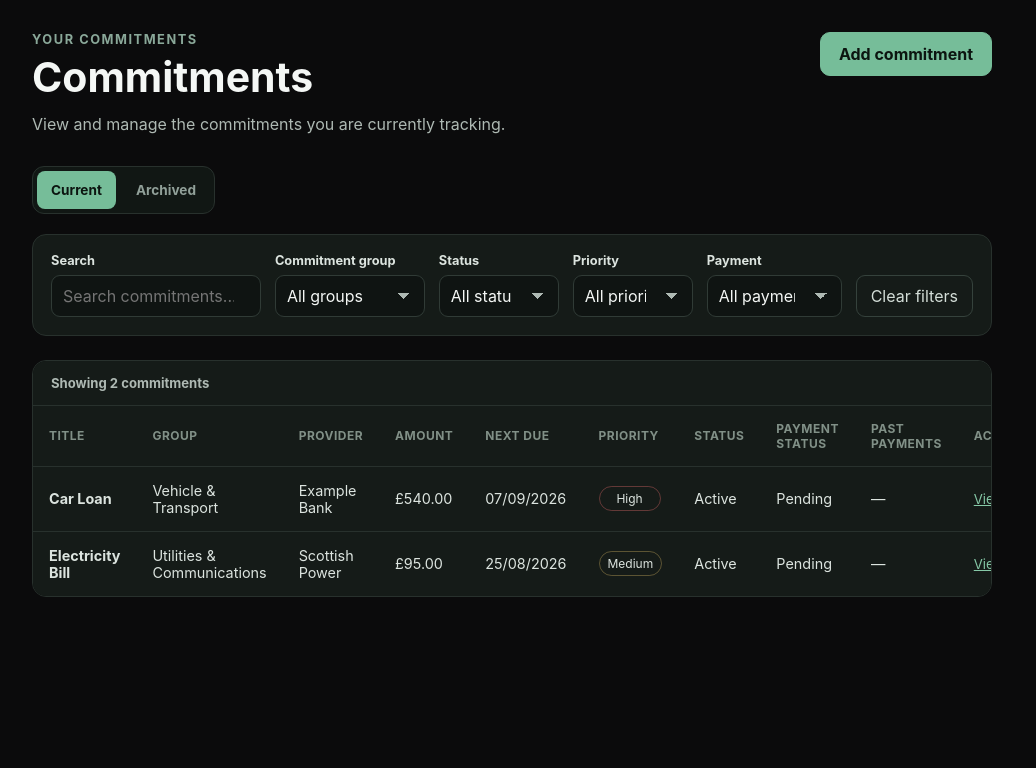
CommitmentsPage › filters commitments by title
expect the text "Car Loan" is shown: met, box [33, 466, 136, 531]
expect the text "Electricity Bill" is shown: met, box [33, 531, 136, 596]
Type "Car" into the search field labelled "Search" at (156, 296), box [51, 275, 261, 317]
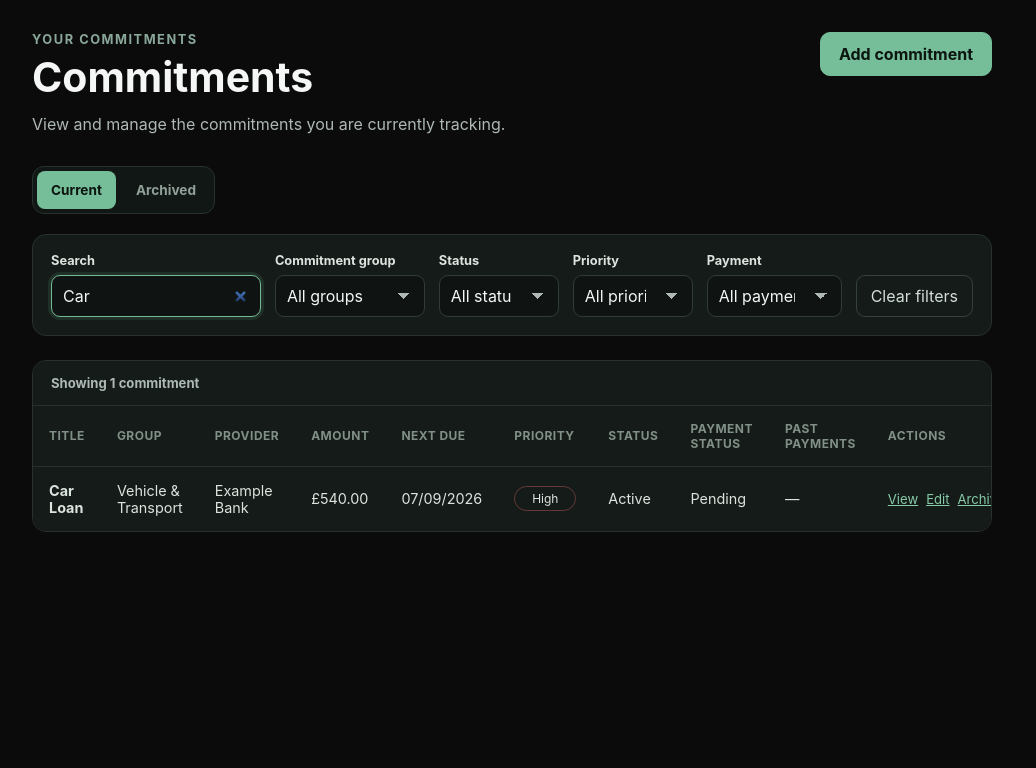
expect the text "Car Loan" is shown: met, box [33, 466, 101, 531]
expect the text "Electricity Bill" is gone: met
expect the text "Showing 1 commitment" is shown: met, box [33, 361, 991, 406]
